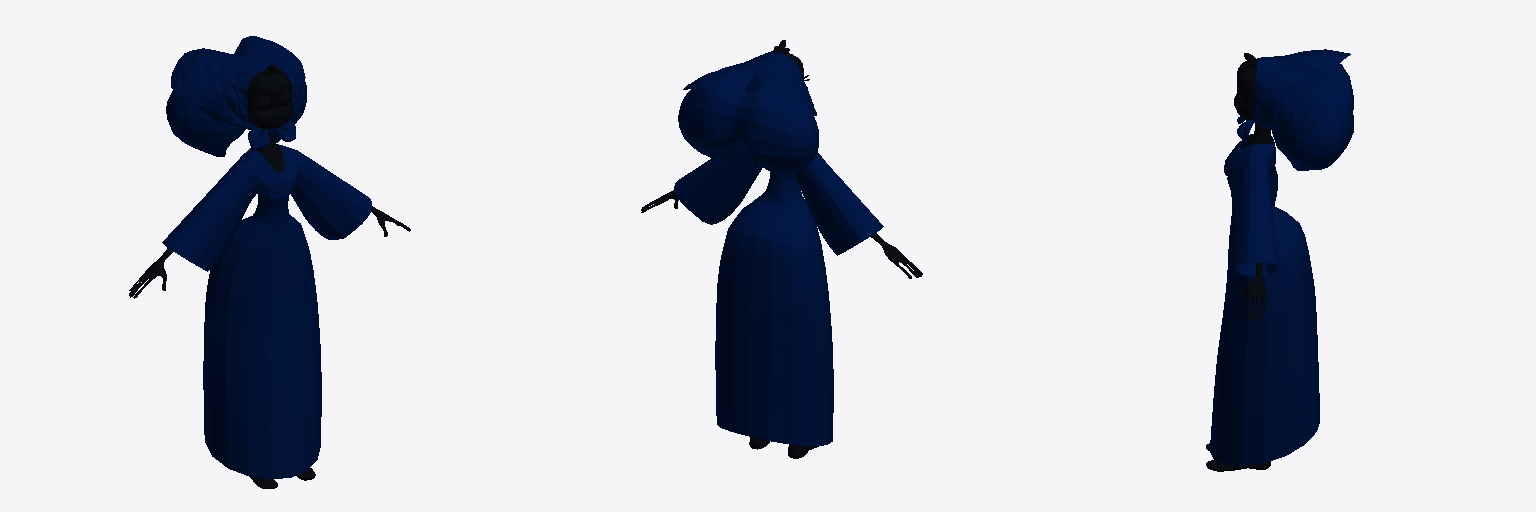
File: Licorice.obj
3 views of the same model, side by side, from view 1: azimuth 30°, elevation 25°; view 2: azimuth 150°, elevation 25°; view 3: azimuth 270°, elevation 25° (orthographic).
Parts seen in each view (by area): view 1: Clothes_Grp Geo_Grp polySurface1, Clothes_Grp Geo_Grp shirt, Clothes_Grp Geo_Grp New_Cowl, Licorice_Refined_new_Model face_test Geo_Grp Body_Grp body, Geo_Grp Body_Grp hair; view 2: Clothes_Grp Geo_Grp polySurface1, Clothes_Grp Geo_Grp shirt, Geo_Grp Body_Grp hair, Clothes_Grp Geo_Grp New_Cowl, Licorice_Refined_new_Model face_test Geo_Grp Body_Grp body; view 3: Clothes_Grp Geo_Grp polySurface1, Clothes_Grp Geo_Grp New_Cowl, Clothes_Grp Geo_Grp shirt, Geo_Grp Body_Grp hair, Licorice_Refined_new_Model face_test Geo_Grp Body_Grp body.
Part boxes in pixels (bbox=[...]): Clothes_Grp Geo_Grp polySurface1: bbox=[203, 190, 321, 479]; Clothes_Grp Geo_Grp shirt: bbox=[162, 143, 371, 271]; Clothes_Grp Geo_Grp New_Cowl: bbox=[171, 36, 305, 129]; Licorice_Refined_new_Model face_test Geo_Grp Body_Grp body: bbox=[129, 69, 410, 488]; Geo_Grp Body_Grp hair: bbox=[166, 81, 306, 156]; Clothes_Grp Geo_Grp polySurface1: bbox=[715, 171, 833, 446]; Clothes_Grp Geo_Grp shirt: bbox=[674, 145, 883, 255]; Geo_Grp Body_Grp hair: bbox=[678, 87, 818, 174]; Clothes_Grp Geo_Grp New_Cowl: bbox=[683, 52, 816, 119]; Licorice_Refined_new_Model face_test Geo_Grp Body_Grp body: bbox=[641, 51, 922, 458]; Clothes_Grp Geo_Grp polySurface1: bbox=[1210, 177, 1319, 465]; Clothes_Grp Geo_Grp New_Cowl: bbox=[1252, 49, 1351, 130]; Clothes_Grp Geo_Grp shirt: bbox=[1224, 134, 1277, 275]; Geo_Grp Body_Grp hair: bbox=[1272, 64, 1353, 170]; Licorice_Refined_new_Model face_test Geo_Grp Body_Grp body: bbox=[1206, 61, 1272, 471].
Size of the model in its own units: 4.01 by 5.54 by 1.83.